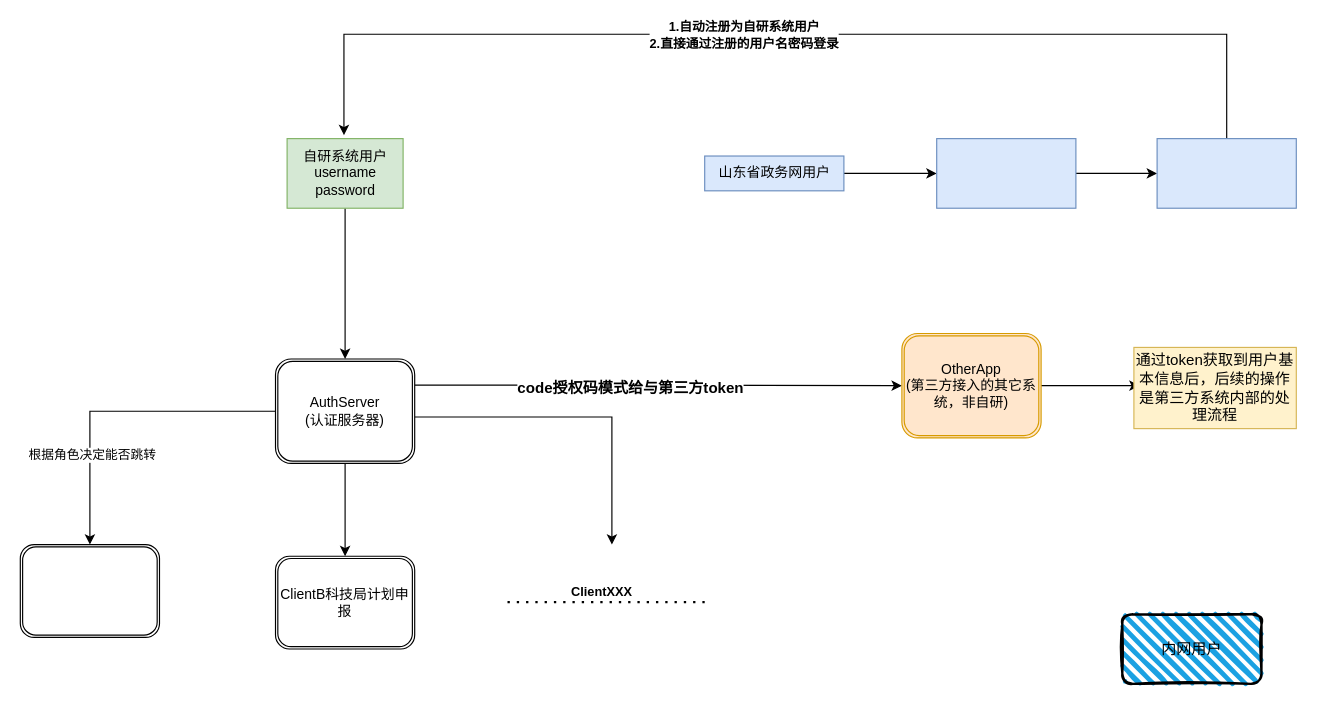
The diagram is 1317 pixels wide and 705 high, and some of its shapes have lost their labels. The centre of each missing label's shape, as x and y in pixels:
"ClientA门户客户端" belongs at point (89, 590).
"对接获取token" belongs at point (1006, 172).
"拿到用户基本信息" belongs at point (1226, 172).
